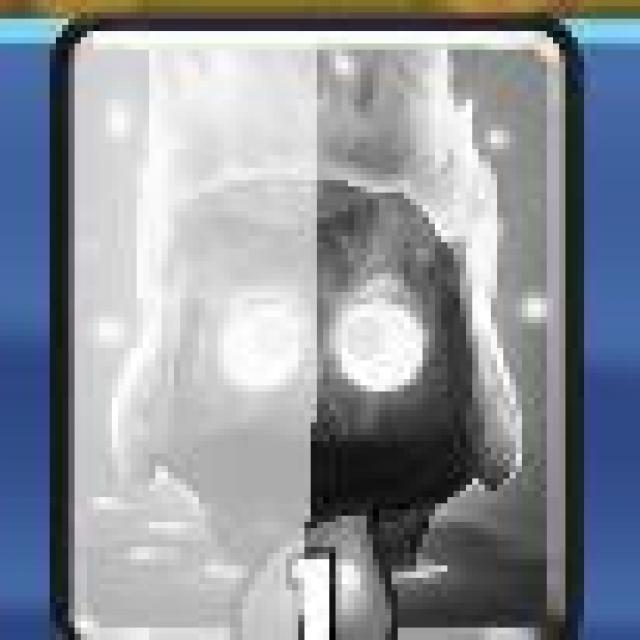Fire_Spirit: (41, 10, 583, 640)
